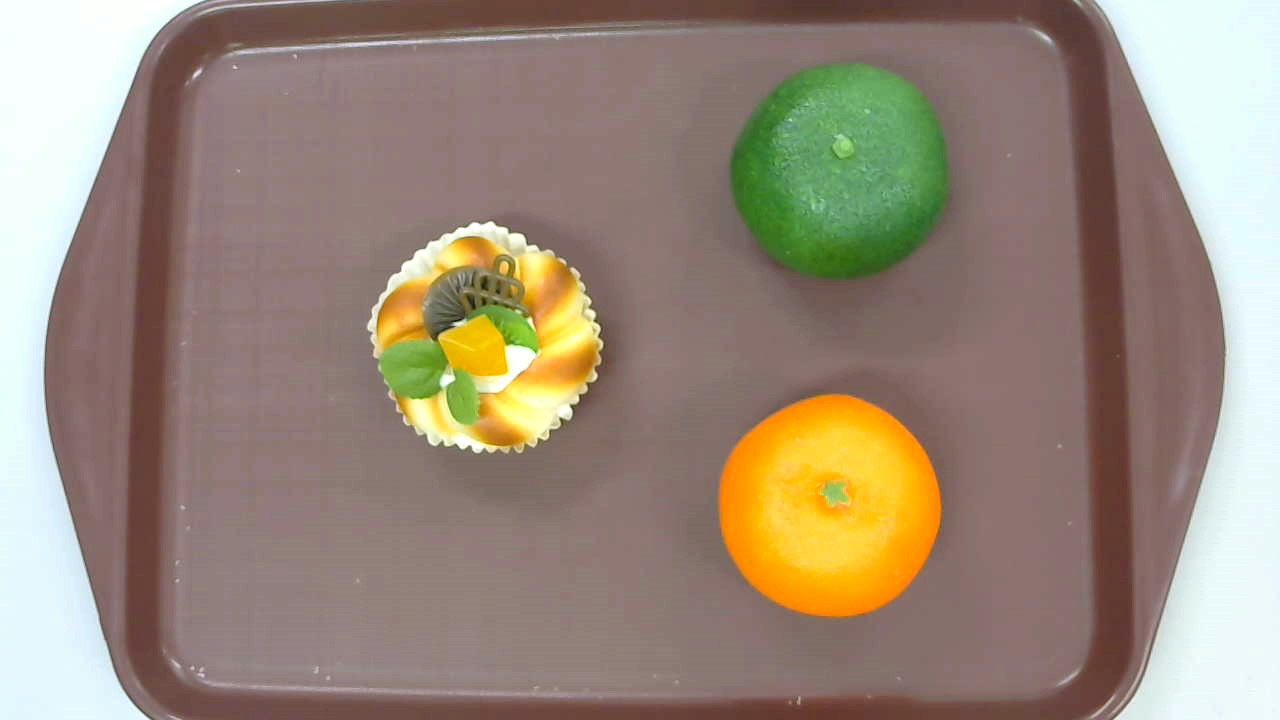fruit tart: (366, 220, 603, 455)
green orange: (730, 62, 948, 282)
orange: (718, 392, 940, 618)
